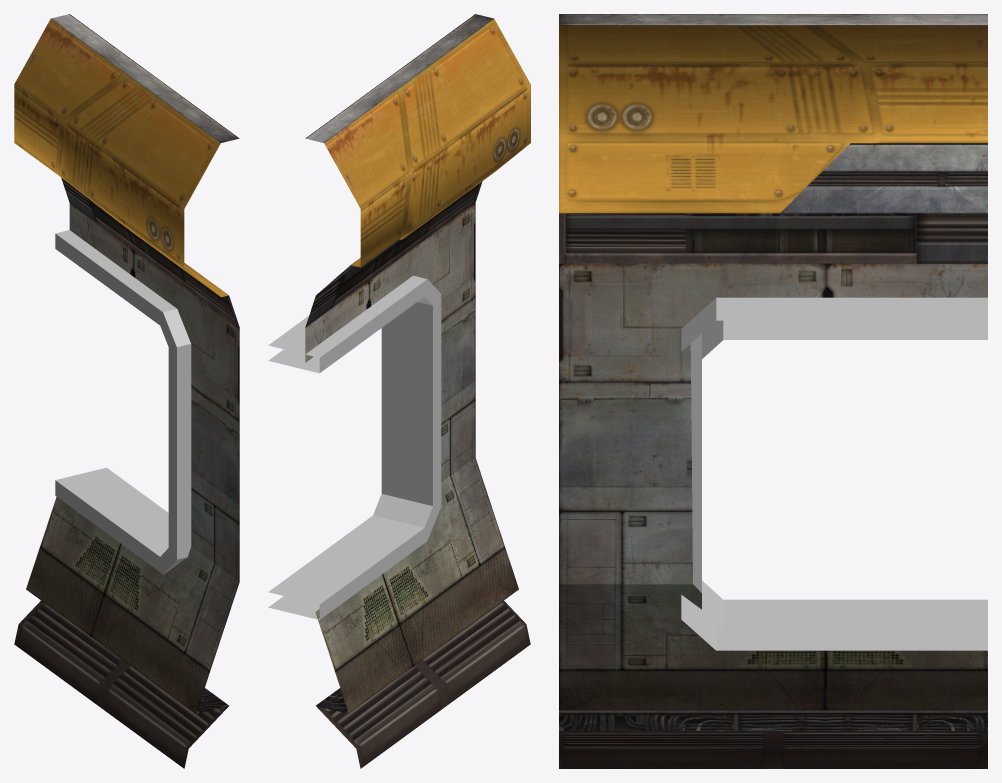
The model's file is Wall_WallSideANew_18.fbx.
3 renders of one model, left to right at view 1: azimuth 30°, elevation 25°; view 2: azimuth 150°, elevation 25°; view 3: azimuth 270°, elevation 25°, orthographic. The views are drawn at different scales.
Visible parts, largest first — view 1: wall, window frame; view 2: wall, window frame; view 3: wall, window frame.
Part boxes in pixels (box(x1,y1,x2,y2)): wall: box(14, 14, 239, 768); window frame: box(55, 230, 191, 574); wall: box(305, 14, 530, 768); window frame: box(268, 275, 441, 619); wall: box(559, 14, 987, 768); window frame: box(681, 297, 987, 650).
Size of the model in its own units: 62.82 by 400 by 200.
